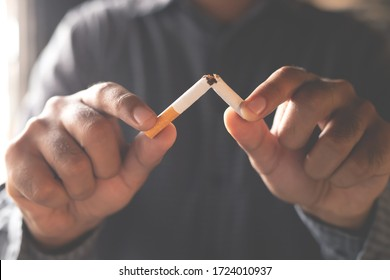cigarette: (139, 70, 212, 141), (210, 74, 246, 116)
